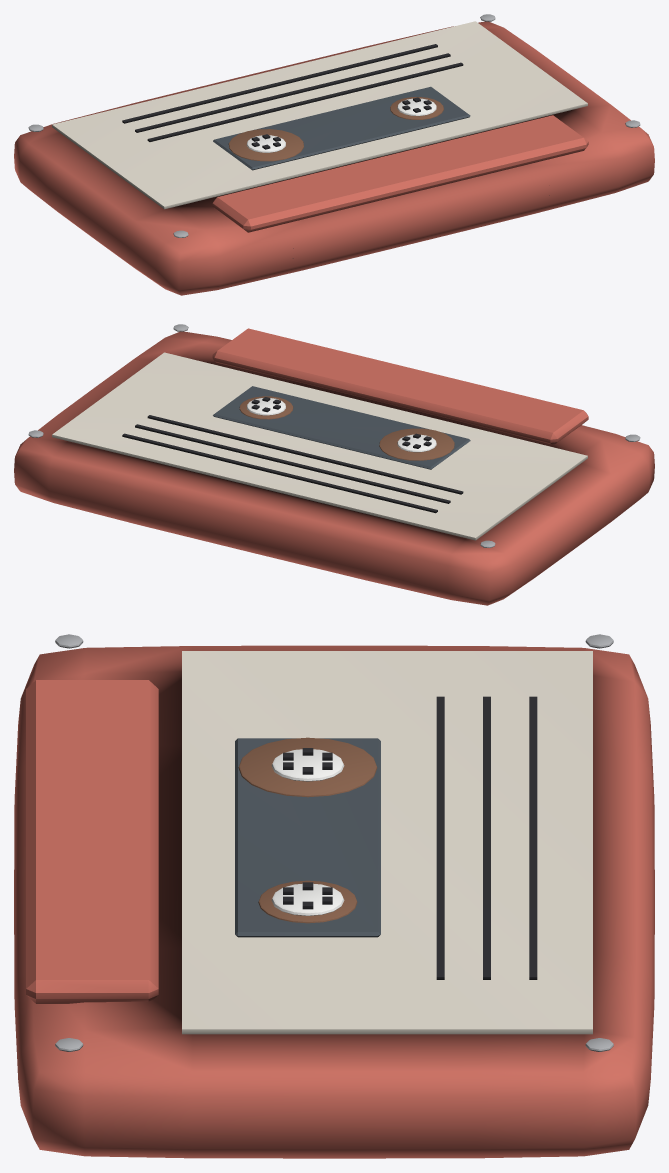
Rendered from nd_cassette.glb.
3 views of the same model, one above another, from view 1: azimuth 30°, elevation 25°; view 2: azimuth 150°, elevation 25°; view 3: azimuth 270°, elevation 25° (orthographic). The views are drawn at different scales.
Visible parts, largest first — view 1: PART; view 2: PART; view 3: PART.
Part boxes in pixels (x1,y1,x2,y2): PART: (14, 14, 654, 295); PART: (14, 324, 654, 605); PART: (14, 634, 654, 1158).
Size of the model in its own units: 0.1587 by 0.022 by 0.0967.
